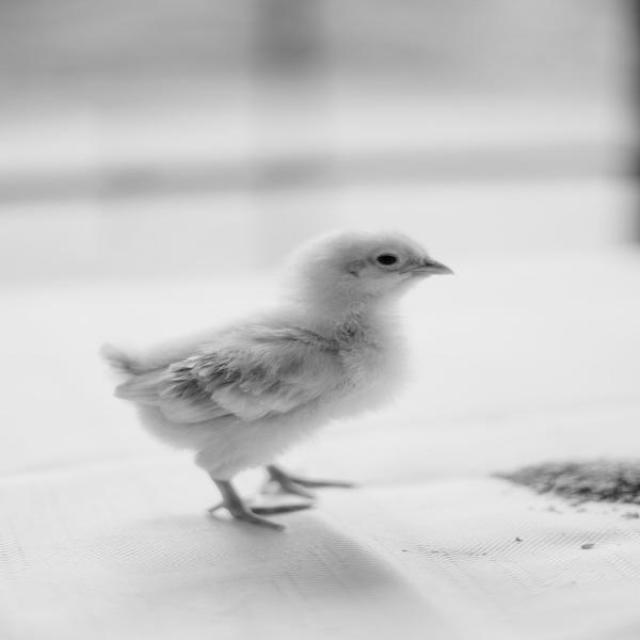poussin: (90, 222, 462, 538)
